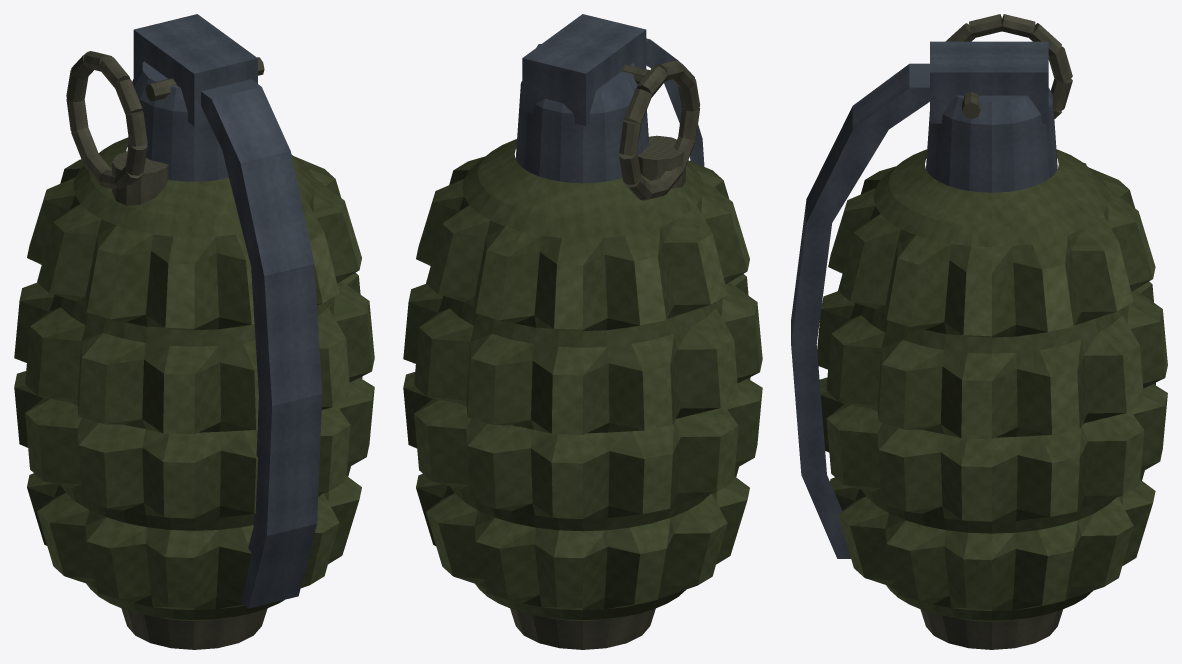
Rendered from mills_bomb.glb.
3 views of the same model, side by side, from view 1: azimuth 30°, elevation 25°; view 2: azimuth 150°, elevation 25°; view 3: azimuth 270°, elevation 25° (orthographic). The views are drawn at different scales.
Parts seen in each view (by area): view 1: mills_bomb.body; view 2: mills_bomb.body; view 3: mills_bomb.body.
Part boxes in pixels (x1=…): mills_bomb.body: x1=14, y1=14, x2=374, y2=649; mills_bomb.body: x1=403, y1=14, x2=762, y2=649; mills_bomb.body: x1=791, y1=14, x2=1167, y2=649.
Bounding box in the file's own units: 0.0971 × 0.1743 × 0.1039.
Materials: 4 (4 with a texture image).
